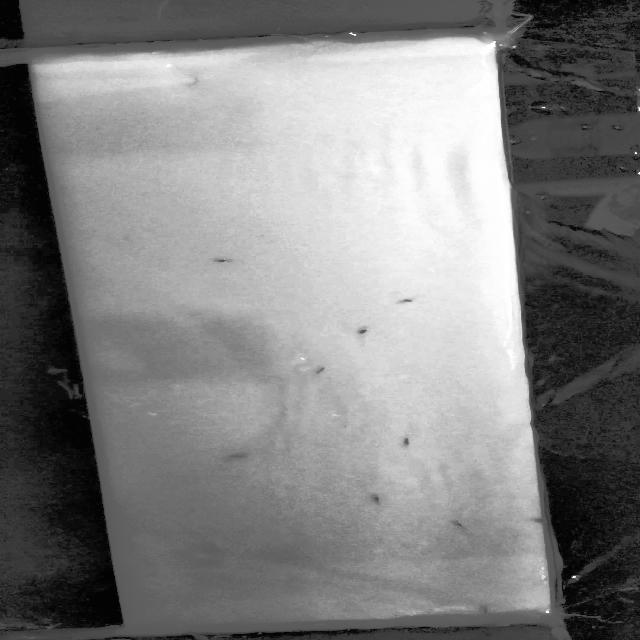shrimp: (199, 253, 244, 271), (217, 452, 261, 465), (390, 292, 428, 306), (390, 434, 424, 449), (193, 556, 227, 570), (361, 493, 394, 506), (469, 602, 498, 616), (351, 327, 374, 341), (528, 514, 548, 527), (451, 520, 470, 530)
